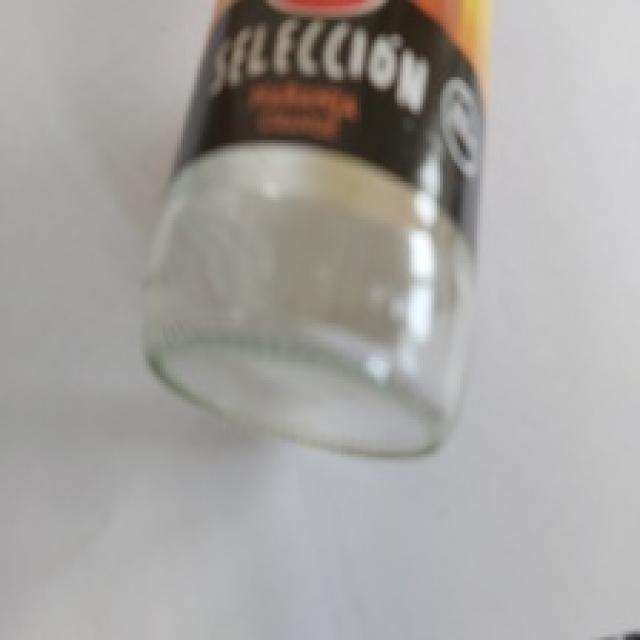Glass: (139, 0, 492, 461)
